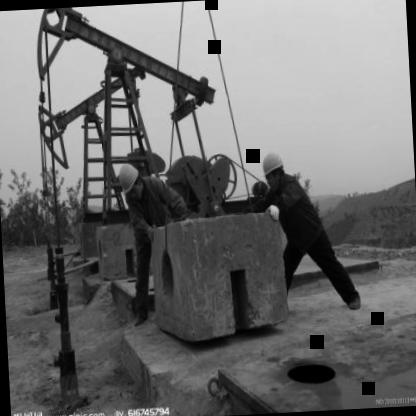helmet: (259, 146, 288, 192), (111, 159, 145, 198)
